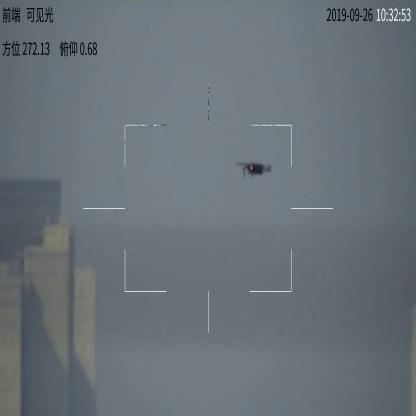uav: (236, 159, 278, 178)
